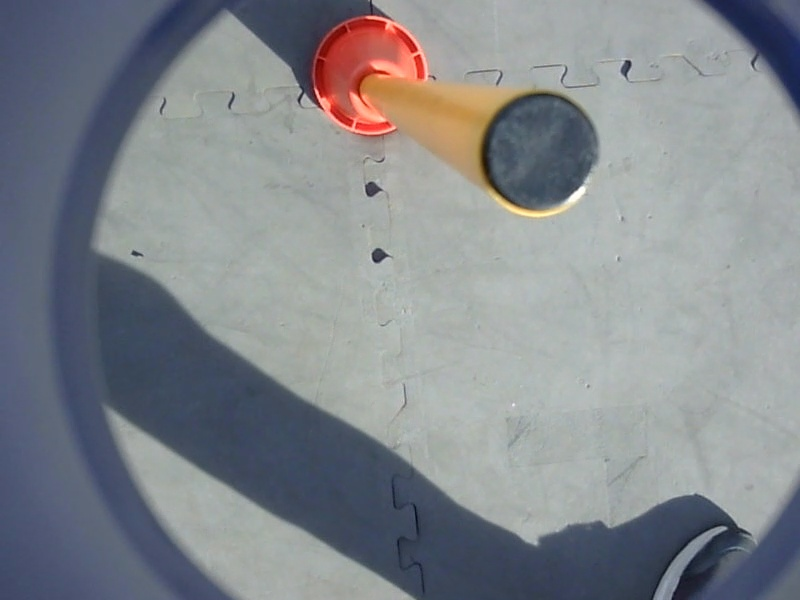tip: (466, 84, 607, 225)
